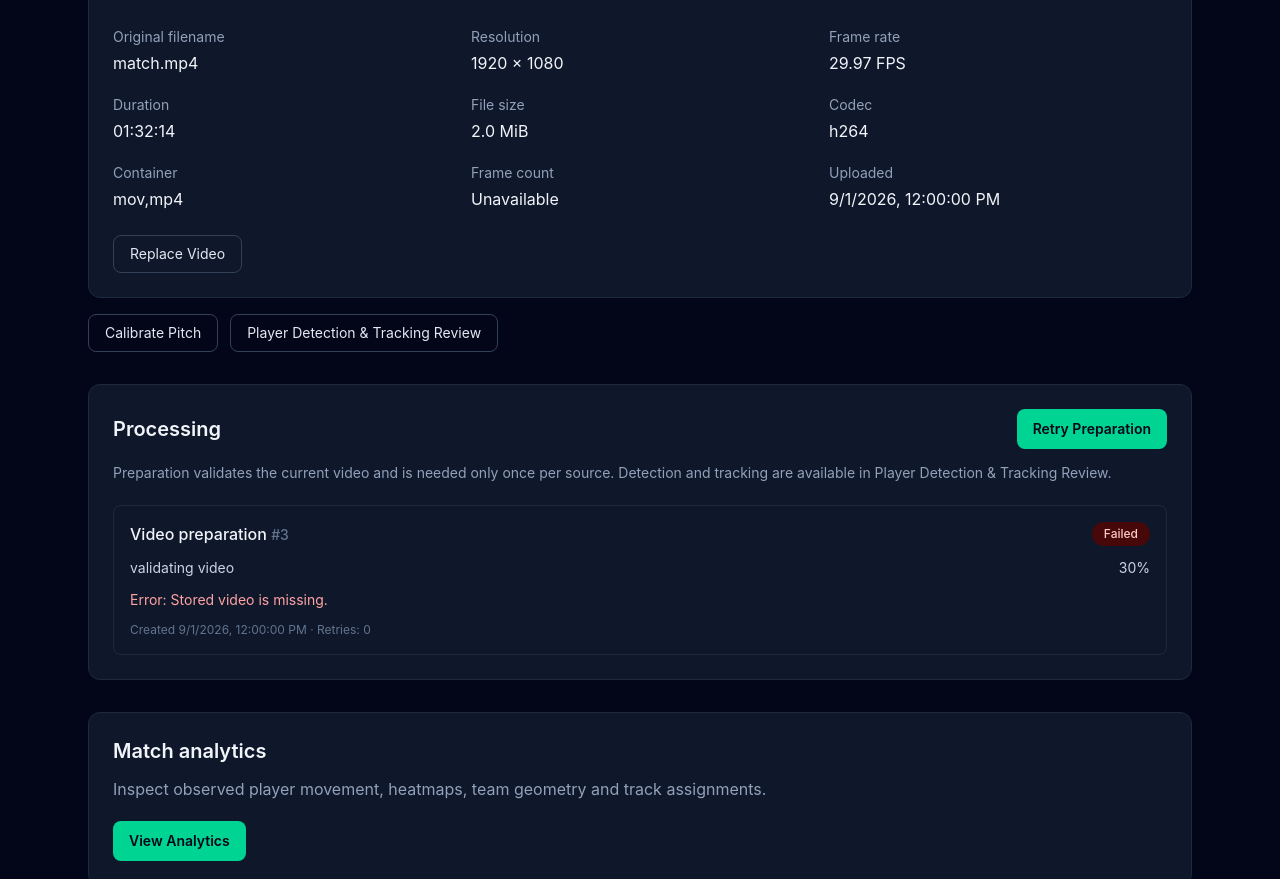
Test: processing jobs › displays actual stages, progress and safe errors and retries a failed job
(page scrolled)
expect the text "Error: Stored video is missing." is shown: met, box [130,591,328,608]
expect the text "validating video" is shown: met, box [130,558,234,578]
Click the button "Retry Preparation" at (1092, 429), box [1017,409,1167,449]
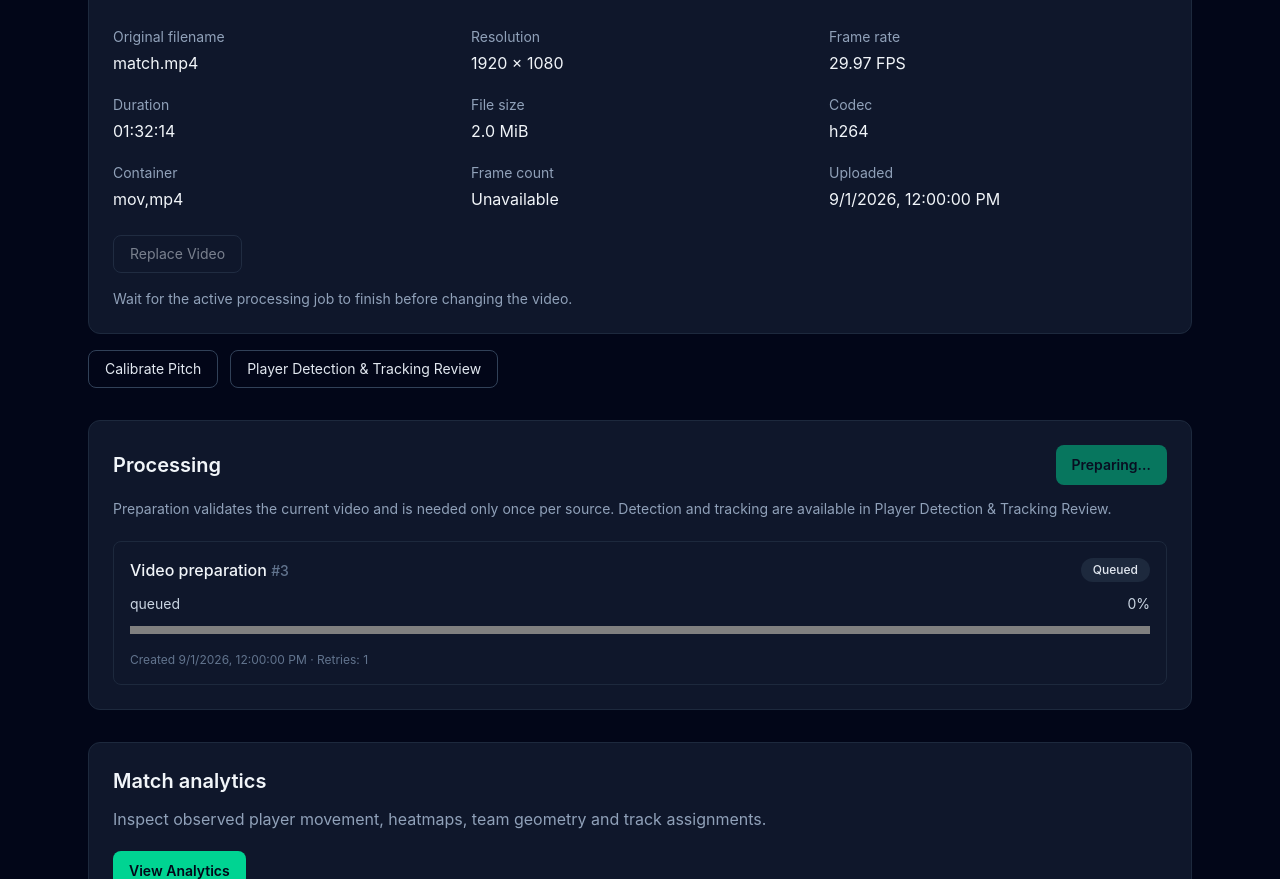
expect the text "Queued" is shown: met, box [1081,558,1150,582]
expect the text "Created 9/1/2026, 12:00:00 PM · Retries: 1" is shown: met, box [130,652,368,668]
